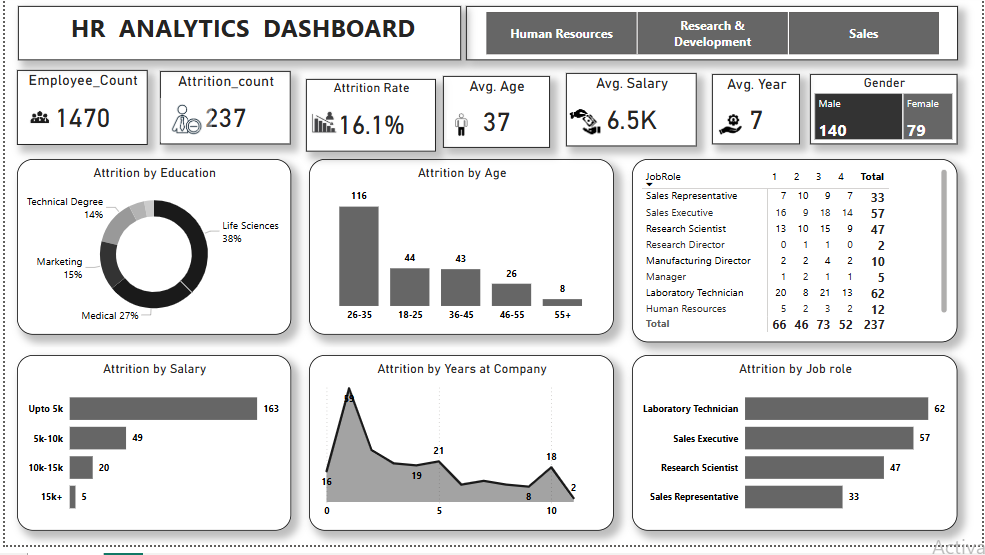

Layout of this report page (visuals, bound fields, positions):
{"tool":"powerbi","page":{"name":"Page 1","canvas":[1280,720],"ordinal":0},"visuals":[{"type":"group","id":"g1","title":"Group 1","box":[15.8,97.9,171.4,97.9],"z":0},{"type":"card","title":"Employee_Count","fields":{"Values":["CountNonNull(Hr analytics.EmployeeCount)"]},"box":[15.8,97.9,171.4,97.9],"z":0,"group":"g1"},{"type":"card","title":"Attrition_count","fields":{"Values":["Sum(Hr analytics.Attrition_Count)"]},"box":[203,99.4,171,96],"z":0,"group":"g2"},{"type":"card","title":"Attrition Rate","fields":{"Values":["Hr analytics.Attrition Rate"]},"box":[394,109.6,169.9,95],"z":0,"group":"g3"},{"type":"group","id":"g2","title":"Group 2","box":[203,99.4,171.4,96.5],"z":1000},{"type":"image","box":[16.9,124.7,56.6,70.9],"z":1000,"group":"g1"},{"type":"image","box":[203.1,134.6,67.7,57.6],"z":1002,"group":"g2"},{"type":"image","box":[394,131.8,47.5,69.1],"z":1004,"group":"g3"},{"type":"group","id":"g3","title":"Group 3","box":[394,109.6,169.9,95],"z":2000},{"type":"card","title":"Avg. Age","fields":{"Values":["Avg(Hr analytics.Age)"]},"box":[573.1,106.6,139.7,93.6],"z":3000},{"type":"card","title":"Avg. Year ","fields":{"Values":["Avg(Hr analytics.YearsAtCompany)"]},"box":[925.9,103.7,115.2,92.2],"z":4000},{"type":"card","title":"Avg. Salary","fields":{"Values":["Avg(Hr analytics.MonthlyIncome)"]},"box":[734.4,102.2,171.4,96.5],"z":5000},{"type":"donutChart","title":" Attrition by Education","fields":{"Y":["Sum(Hr analytics.Attrition_Count)"],"Category":["Hr analytics.EducationField"]},"box":[15.8,214.6,358.6,230.4],"z":6000},{"type":"clusteredColumnChart","title":" Attrition by Age","fields":{"Y":["Sum(Hr analytics.Attrition_Count)"],"Category":["Hr analytics.AgeGroup"]},"box":[397.4,214.6,398.9,230.4],"z":7000},{"type":"pivotTable","fields":{"Rows":["Hr analytics.JobRole"],"Columns":["Hr analytics.JobSatisfaction"],"Values":["Sum(Hr analytics.Attrition_Count)"]},"box":[820.8,214.6,426.2,240.5],"z":8000},{"type":"clusteredBarChart","title":" Attrition by  Salary","fields":{"Category":["Hr analytics.SalarySlab"],"Y":["Sum(Hr analytics.Attrition_Count)"]},"box":[15.8,470.9,358.6,230.4],"z":9000},{"type":"clusteredBarChart","title":" Attrition by  Job role","fields":{"Y":["Sum(Hr analytics.Attrition_Count)"],"Category":["Hr analytics.JobRole"]},"box":[820.8,470.9,426.2,230.4],"z":10000},{"type":"areaChart","title":" Attrition by Years at Company","fields":{"Category":["Hr analytics.YearsAtCompany"],"Y":["Sum(Hr analytics.Attrition_Count)"]},"box":[397.4,470.9,398.9,230.4],"z":11000},{"type":"treemap","title":"Gender","fields":{"Group":["Hr analytics.Gender"],"Values":["Sum(Hr analytics.Attrition_Count)"]},"box":[1054.1,103.7,193,92.2],"z":12000},{"type":"image","box":[573.1,138.2,47.5,61.9],"z":12001},{"type":"image","box":[734.4,141.1,50.4,49],"z":12002},{"type":"image","box":[925.9,136.8,47.5,63.4],"z":12003},{"type":"slicer","fields":{"Values":["Hr analytics.Department"]},"box":[603.4,14.4,643.7,70.6],"z":12004},{"type":"textbox","box":[17.3,14.4,580.3,70.6],"z":12005}]}

Visuals, with their boxes in screenshot pixels (x1, y1, x2, y2), scaled from the page's 1280x720 canvas onto the 985x555 screenshot:
"Group 1" group: Rect(12, 75, 144, 151)
"Employee_Count" card: Rect(12, 75, 144, 151)
"Attrition_count" card: Rect(156, 77, 288, 151)
"Attrition Rate" card: Rect(303, 84, 434, 158)
"Group 2" group: Rect(156, 77, 288, 151)
image: Rect(13, 96, 57, 151)
image: Rect(156, 104, 208, 148)
image: Rect(303, 102, 340, 155)
"Group 3" group: Rect(303, 84, 434, 158)
"Avg. Age" card: Rect(441, 82, 549, 154)
"Avg. Year " card: Rect(713, 80, 801, 151)
"Avg. Salary" card: Rect(565, 79, 697, 153)
" Attrition by Education" donutChart: Rect(12, 165, 288, 343)
" Attrition by Age" clusteredColumnChart: Rect(306, 165, 613, 343)
pivotTable - Hr analytics.JobRole x Hr analytics.JobSatisfaction: Rect(632, 165, 960, 351)
" Attrition by  Salary" clusteredBarChart: Rect(12, 363, 288, 541)
" Attrition by  Job role" clusteredBarChart: Rect(632, 363, 960, 541)
" Attrition by Years at Company" areaChart: Rect(306, 363, 613, 541)
"Gender" treemap: Rect(811, 80, 960, 151)
image: Rect(441, 107, 478, 154)
image: Rect(565, 109, 604, 147)
image: Rect(713, 105, 749, 154)
slicer - Hr analytics.Department: Rect(464, 11, 960, 66)
textbox: Rect(13, 11, 460, 66)
